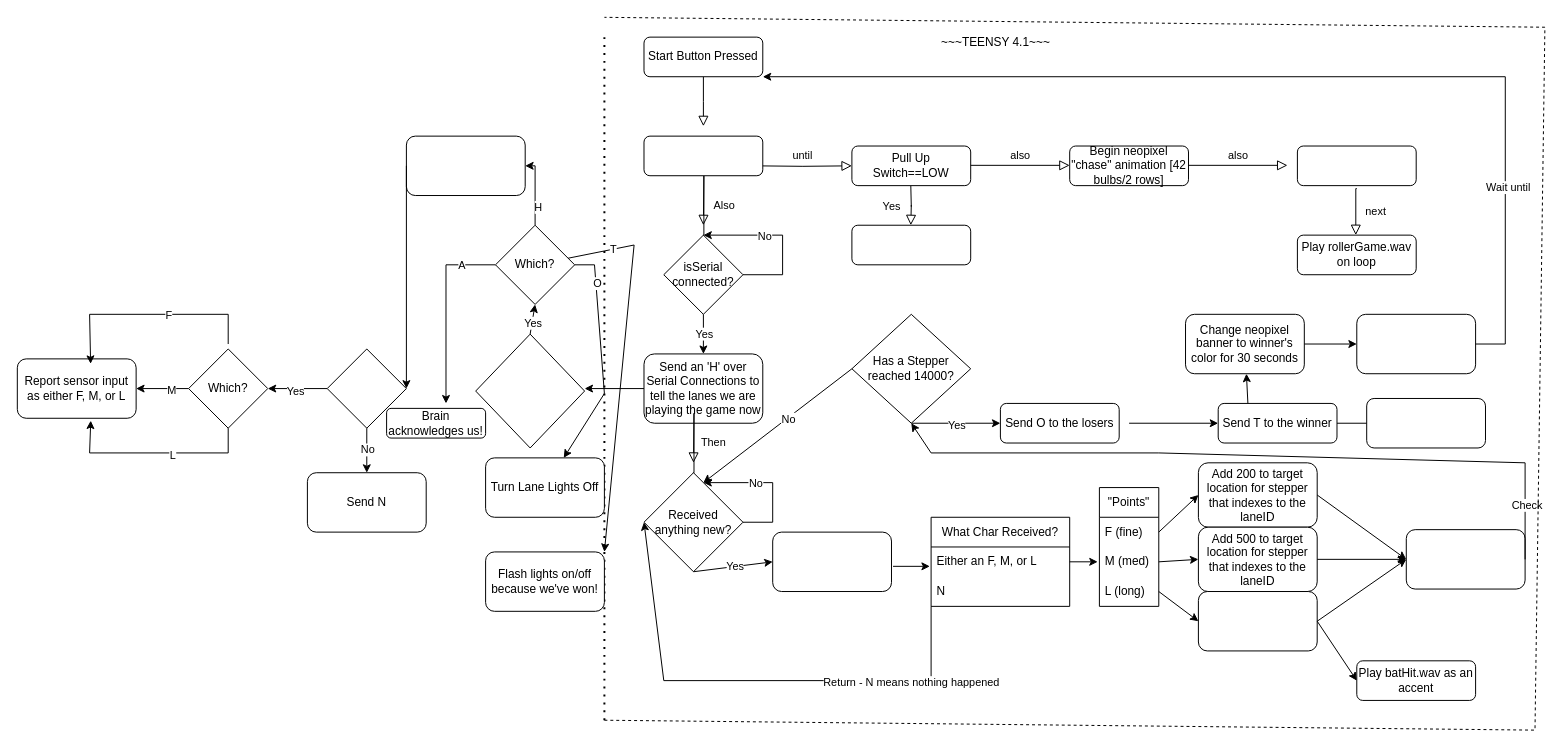
This 1563x748 diagram has some shape labels left out. The shapes that lost their labels are listed below. From the top down, each one's centre as x and y in pixels, then its label:
point 465,165: Arduino Micro turns SSR controlling the light power to on
point 703,155: (4)Steppers go "home" at "1000 speed"
point 1356,165: Play startGame.wav one time
point 911,244: Steppers Back off Switch until /=LOW
point 1416,343: Neopixel display off
point 366,388: Sensor input?
point 530,390: Receive Serial Communication?
point 1425,422: Begin sending all steppers home at "500 speed"
point 831,561: Send an A back to acknowledge receipt
point 1465,559: Move stepper motor according to which ball got in which hole
point 1257,621: Add 900 to target location for stepper that indexes to the laneID
